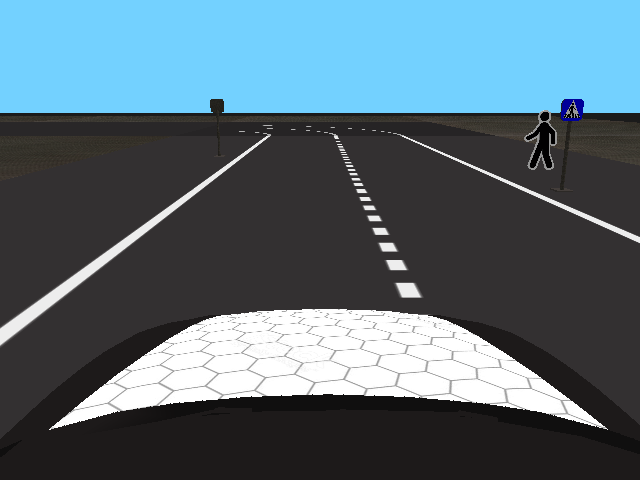pedestrian: (522, 109, 557, 171)
